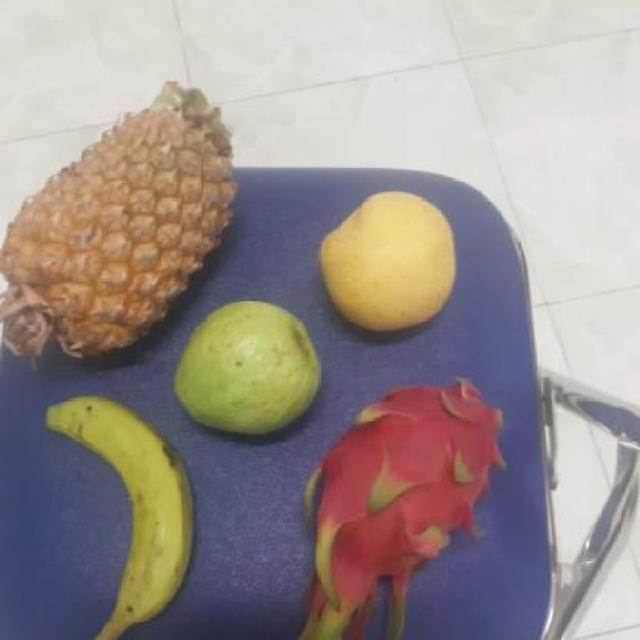banana: (47, 402, 202, 636)
dragon fruit: (298, 385, 514, 613)
guava: (170, 300, 324, 442), (320, 195, 462, 332)
pineapple: (1, 100, 242, 366)
